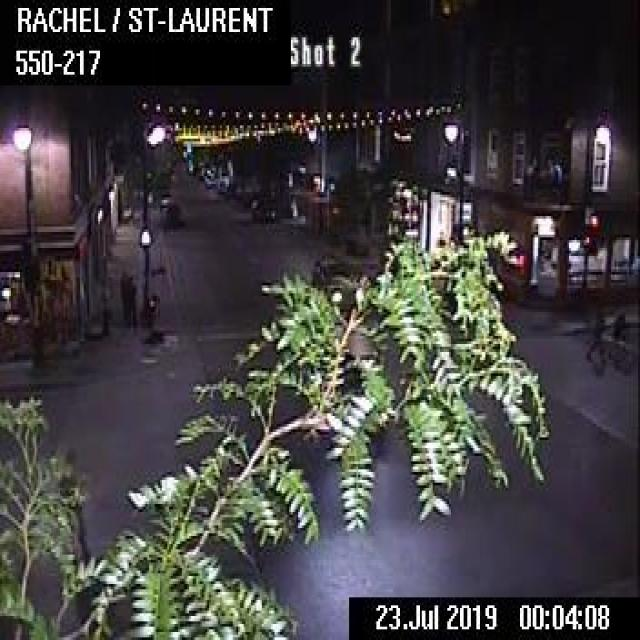pedestrian: (582, 312, 607, 365), (118, 269, 128, 319), (126, 274, 136, 322)
vehicle: (307, 323, 390, 455), (312, 256, 363, 309), (251, 196, 274, 221)
